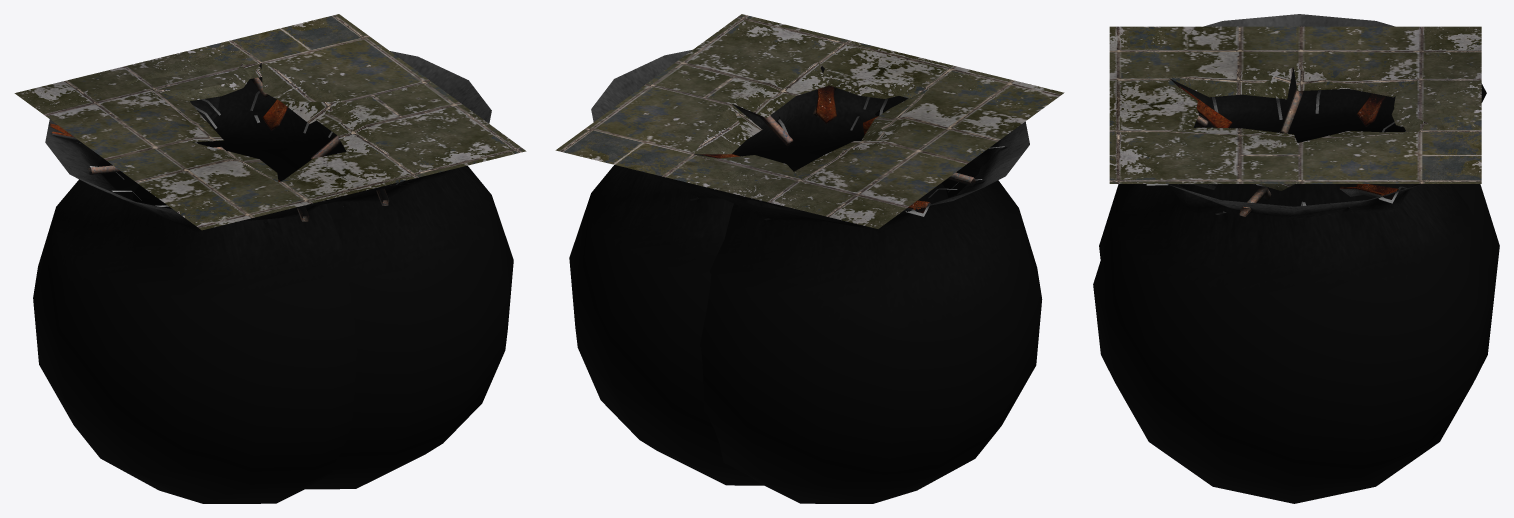
The model's file is BigHoles.fbx.
3 views of the same model, side by side, from view 1: azimuth 30°, elevation 25°; view 2: azimuth 150°, elevation 25°; view 3: azimuth 270°, elevation 25° (orthographic).
Visible parts, largest first — view 1: Left_BigHole, Right_BigHole; view 2: Left_BigHole, Right_BigHole; view 3: Right_BigHole, Left_BigHole.
Part boxes in pixels (x1=…): Left_BigHole: x1=15, y1=14, x2=525, y2=503; Right_BigHole: x1=15, y1=14, x2=525, y2=489; Left_BigHole: x1=555, y1=14, x2=1064, y2=503; Right_BigHole: x1=558, y1=14, x2=1033, y2=485; Right_BigHole: x1=1093, y1=26, x2=1495, y2=503; Left_BigHole: x1=1099, y1=14, x2=1499, y2=283.
Size of the model in its own units: 527 by 428 by 437.
